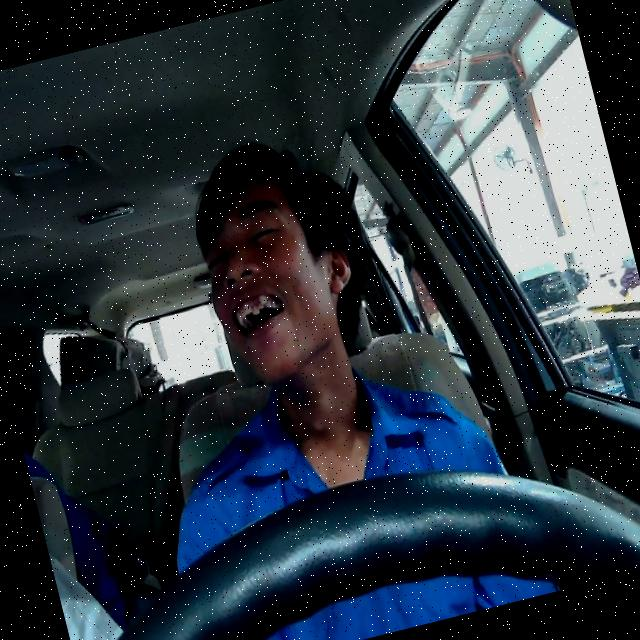yarning: (182, 158, 374, 398)
